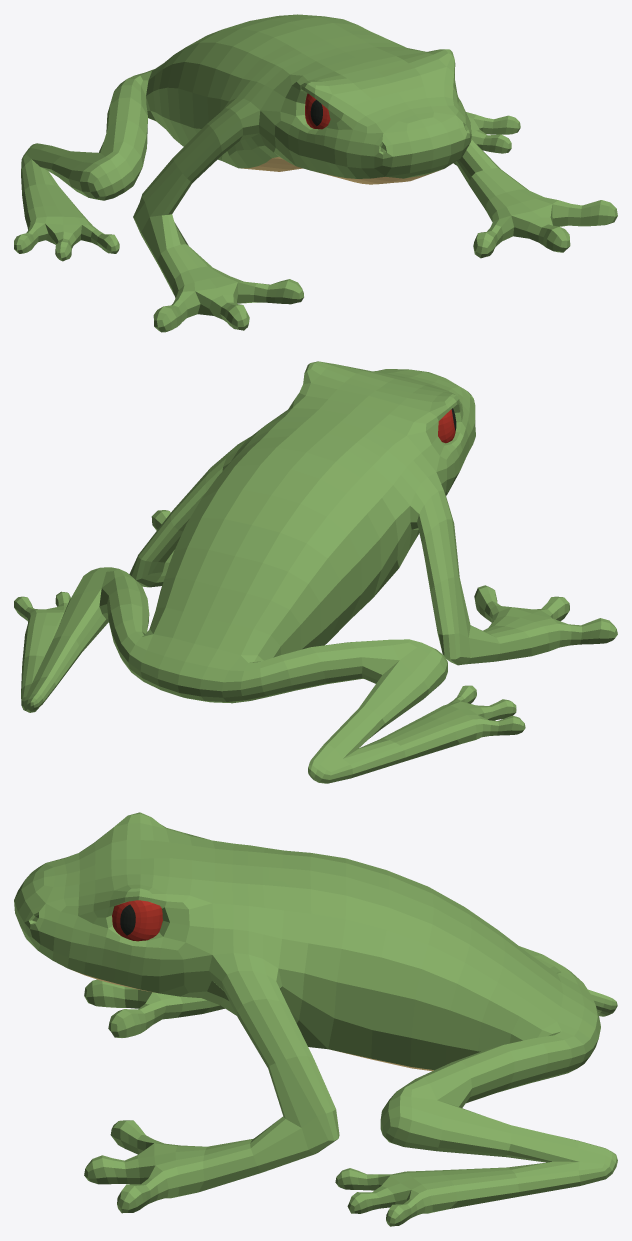
Rendered from q-easy-enemies-frog.glb.
3 views of the same model, one above another, from view 1: azimuth 30°, elevation 25°; view 2: azimuth 150°, elevation 25°; view 3: azimuth 270°, elevation 25° (orthographic). The views are drawn at different scales.
Parts seen in each view (by area): view 1: Green, Yellow; view 2: Green; view 3: Green, Red.
Boxes of the visible parts, box(x1,y1,x2,y2) form: Green: box(14, 14, 617, 332); Yellow: box(241, 157, 440, 184); Green: box(14, 361, 617, 783); Green: box(14, 812, 617, 1226); Red: box(112, 900, 162, 941).
Size of the model in its own units: 3.51 by 1.43 by 3.19.
